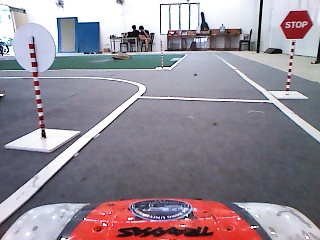stop: (279, 10, 314, 40)
